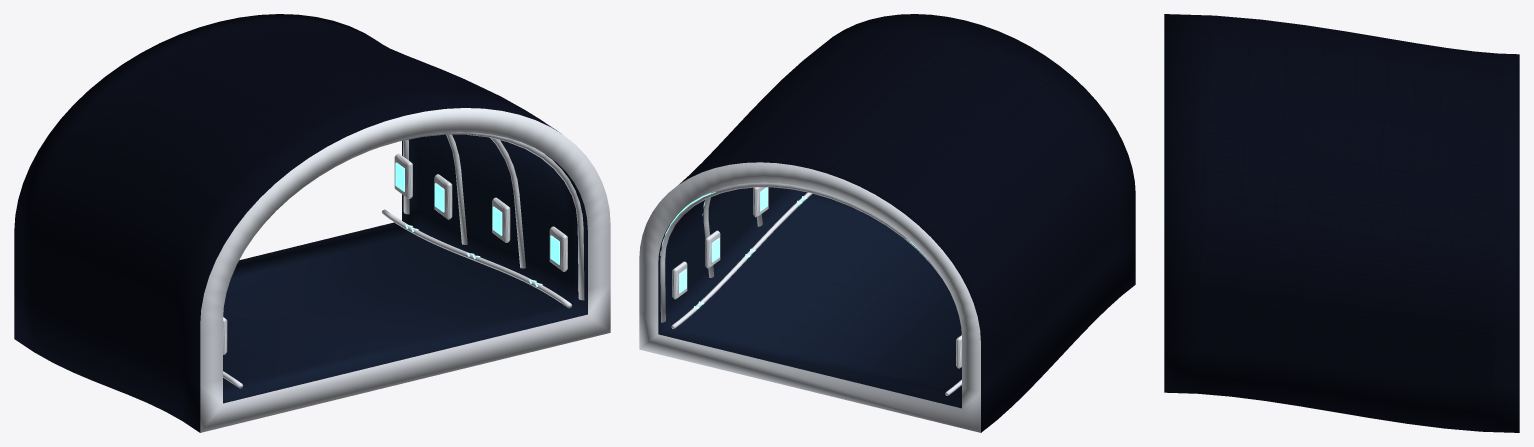
File: grade_down_lod1.glb
3 views of the same model, side by side, from view 1: azimuth 30°, elevation 25°; view 2: azimuth 150°, elevation 25°; view 3: azimuth 270°, elevation 25° (orthographic). The views are drawn at different scales.
Visible parts, largest first — view 1: TunnelGeometry.001; view 2: TunnelGeometry.001; view 3: TunnelGeometry.001.
Boxes of the visible parts, x1=… form: TunnelGeometry.001: x1=14, y1=14, x2=610, y2=432; TunnelGeometry.001: x1=639, y1=14, x2=1135, y2=432; TunnelGeometry.001: x1=1164, y1=14, x2=1519, y2=432.
Size of the model in its own units: 15.3 by 11.02 by 12.
Materials: 4 (2 with a texture image).
